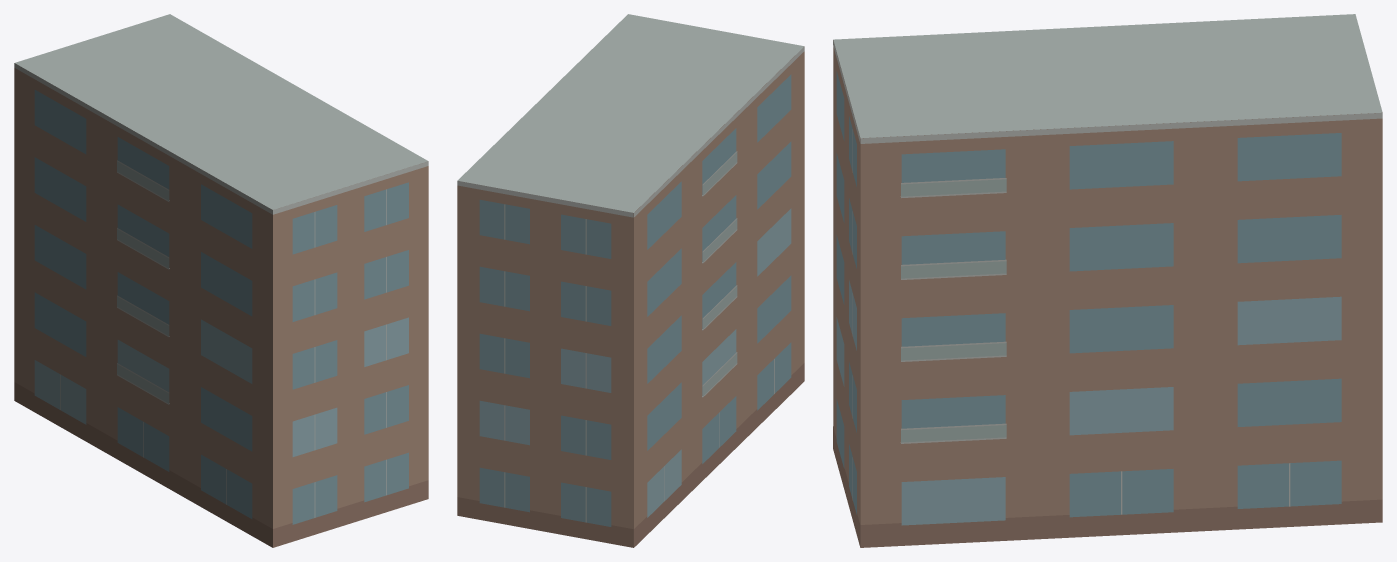
The model's file is survey-upis-32595573.glb.
3 renders of one model, left to right at view 1: azimuth 30°, elevation 25°; view 2: azimuth 150°, elevation 25°; view 3: azimuth 270°, elevation 25°, orthographic. The views are drawn at different scales.
Parts seen in each view (by area): view 1: survey-upis-32595573.tmp; view 2: survey-upis-32595573.tmp; view 3: survey-upis-32595573.tmp.
Part boxes in pixels (x1,y1,x2,y2): survey-upis-32595573.tmp: (14, 14, 428, 547); survey-upis-32595573.tmp: (457, 14, 804, 547); survey-upis-32595573.tmp: (833, 14, 1382, 547).
Bounding box in the file's own units: 11.19 × 17.2 × 20.92.
